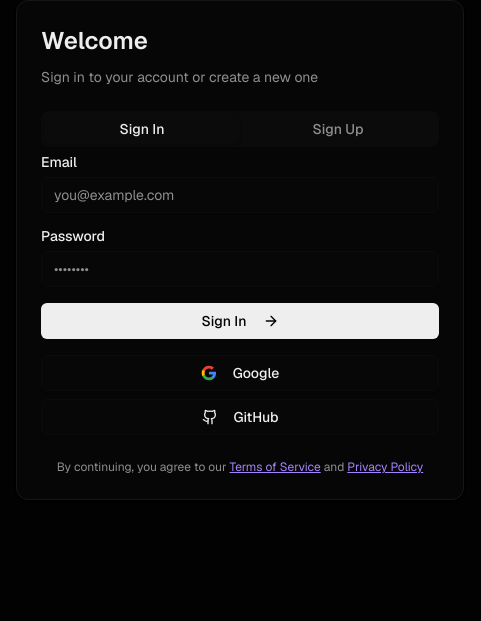
Test: AuthFormWithQuery - Password Confirmation › Password Confirmation Field › should show error when passwords do not match
Click the tab "Sign Up": (338, 129) [240,114,436,144]
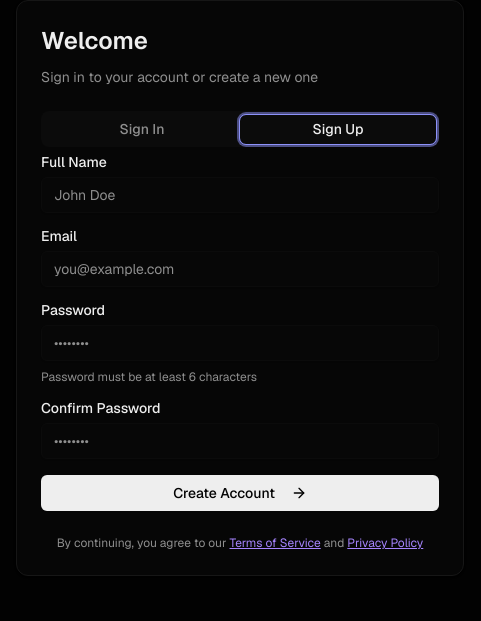
In the password field with id "signup-password": (240, 343) [41,325,439,361], type "password123"
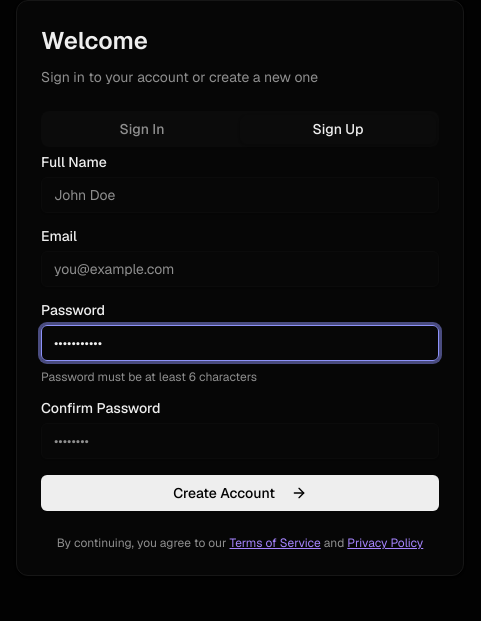
In the password field with id "signup-confirm-password": (240, 441) [41,423,439,459], type "differentpassword"
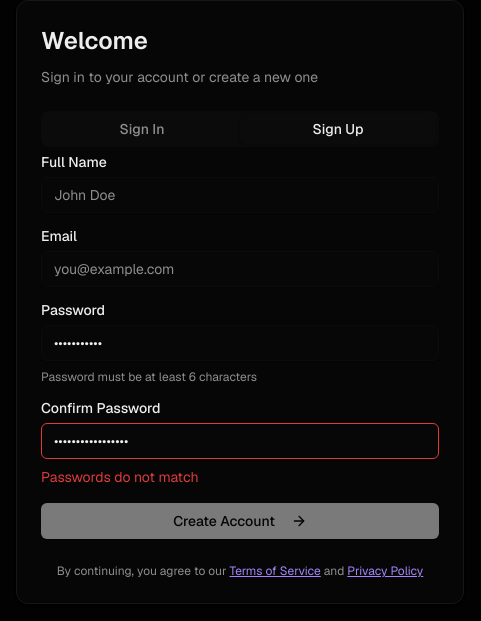
Check: the text "Passwords do not match" is shown, box [41,468,198,486]
